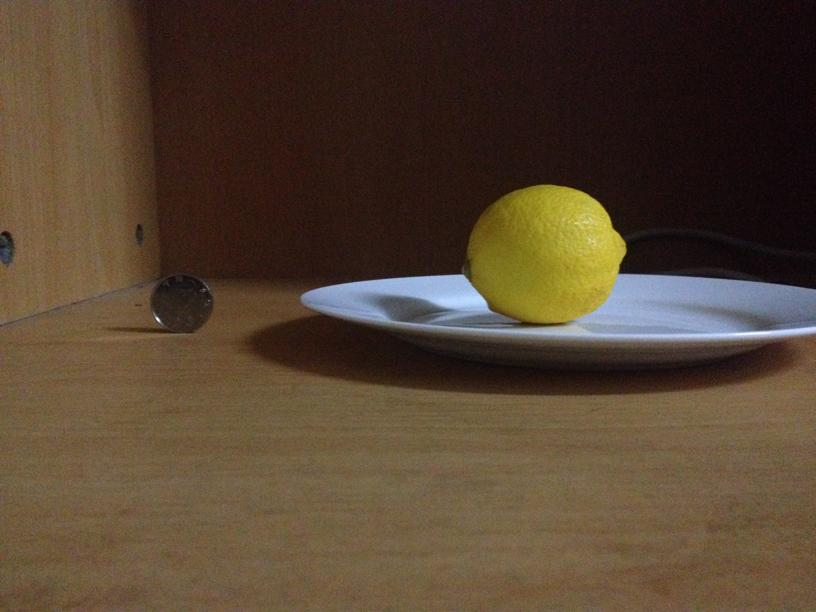coin: (148, 271, 213, 332)
lemon: (463, 183, 625, 323)
